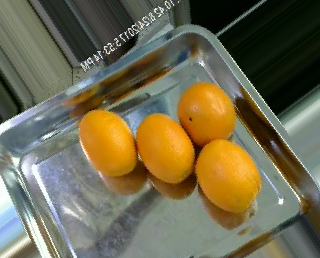Orange: (194, 138, 261, 212), (136, 111, 194, 182), (78, 109, 135, 176), (176, 81, 235, 145)
